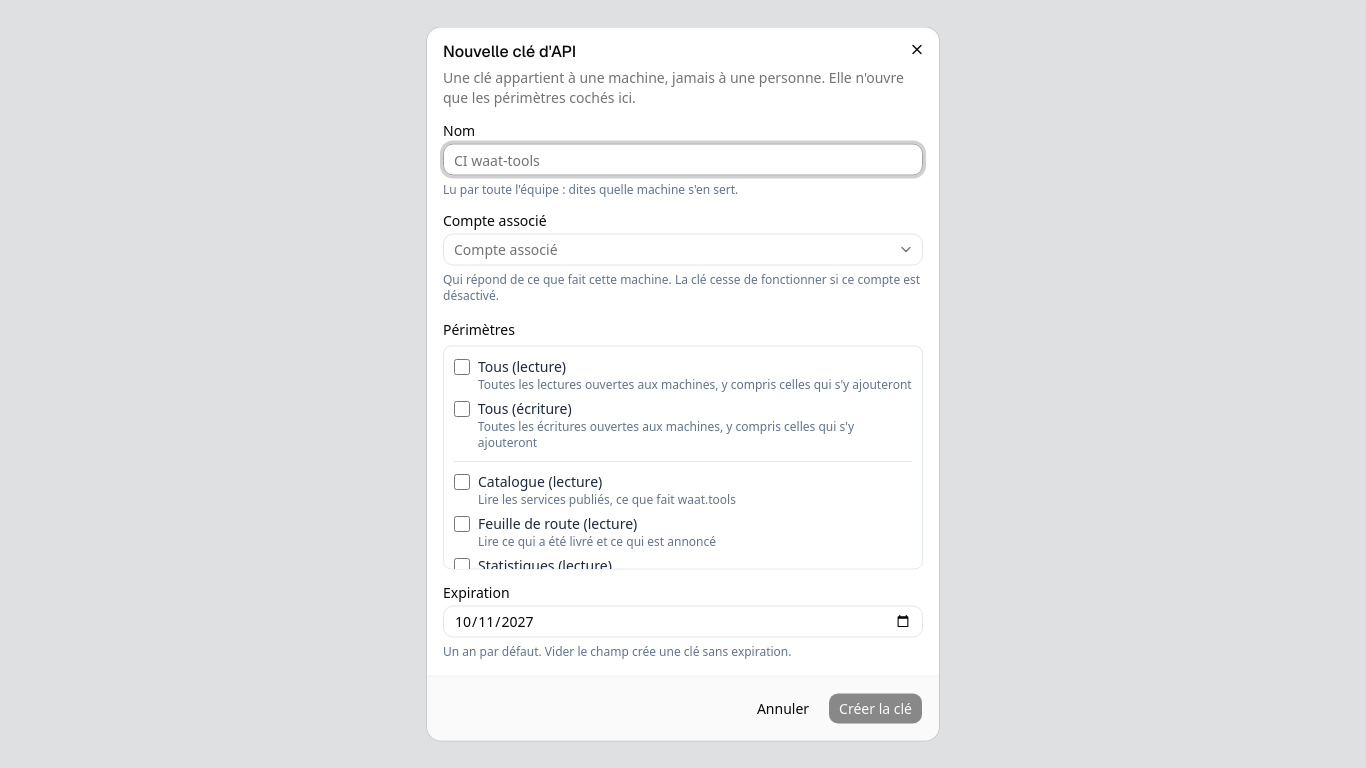
Test case: CreateApiKeyDialog › what a broad scope carries › lets the first « Tous » be unticked after the second
The width and height of the screenshot is (1366, 768).
Click the checkbox labelled "Tous (lecture)" at (462, 366), box 454,358 -> 470,374
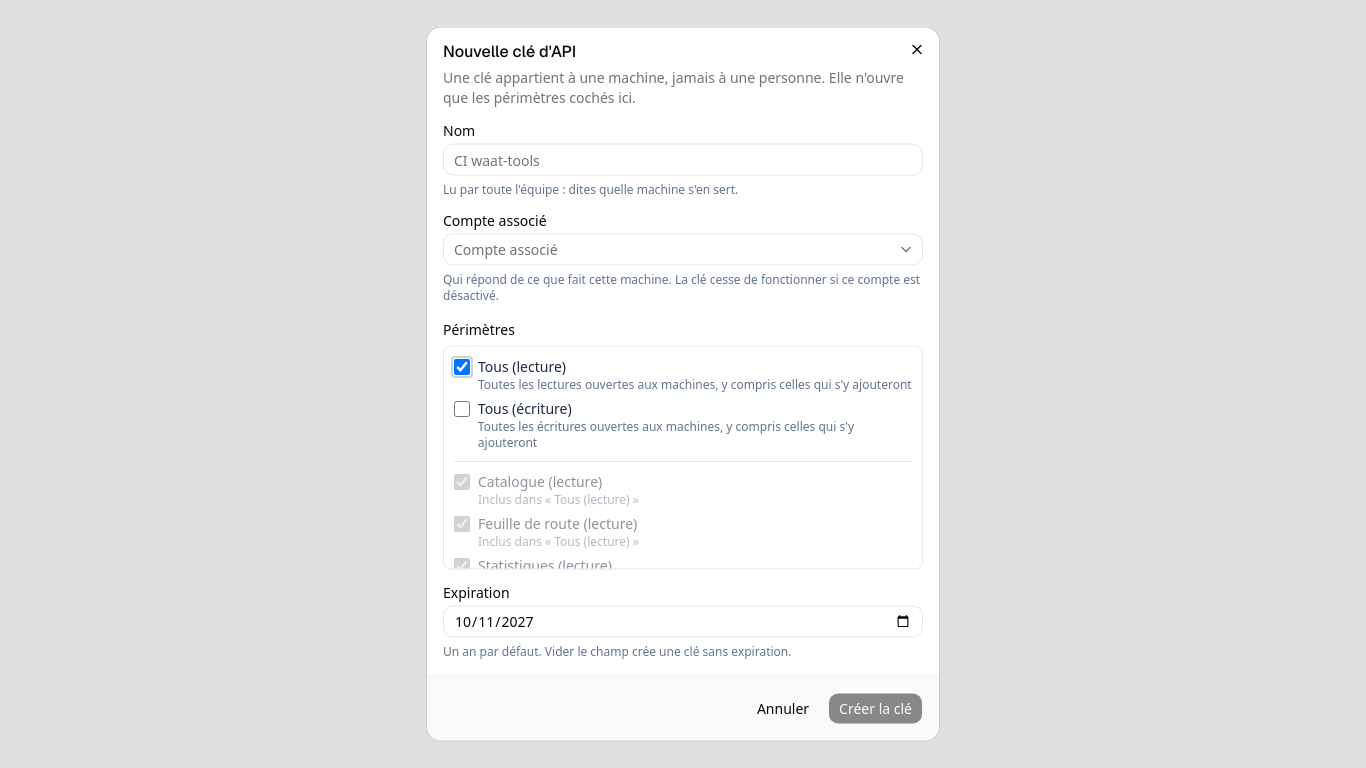
Click the checkbox labelled "Tous (écriture)" at (462, 408), box 454,400 -> 470,416
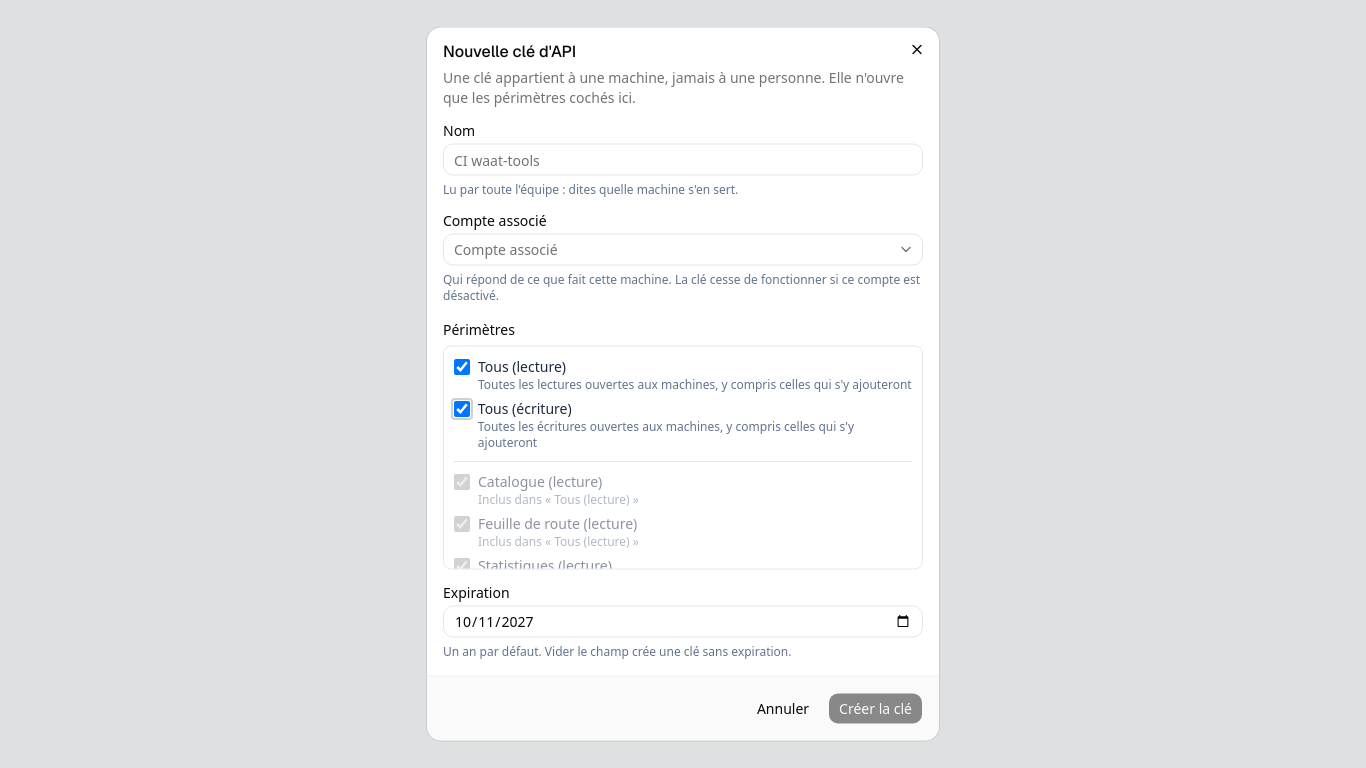
Click the checkbox labelled "Tous (lecture)" at (462, 366), box 454,358 -> 470,374
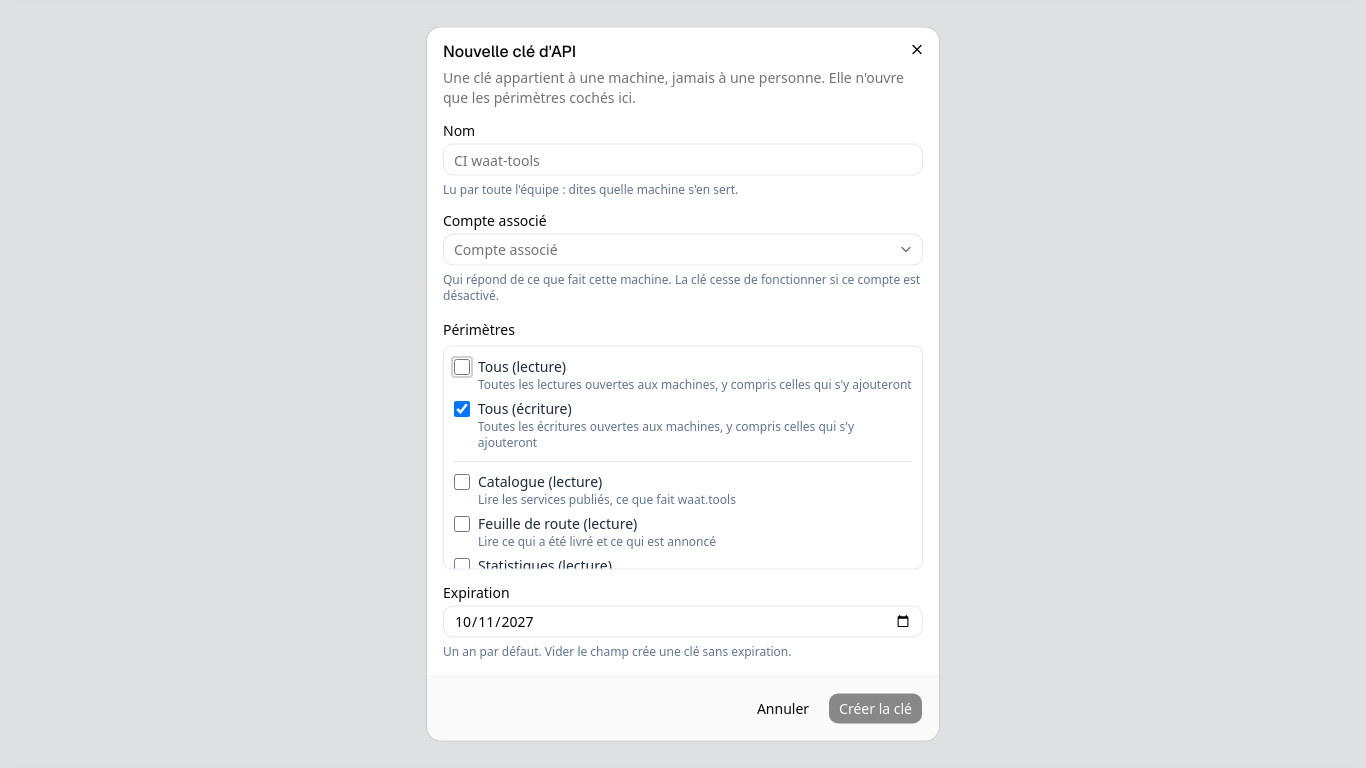
Check: the checkbox labelled "Tous (lecture)" is not checked, box 454,358 -> 470,374
Check: the checkbox labelled "Catalogue" is enabled, box 454,474 -> 470,490
